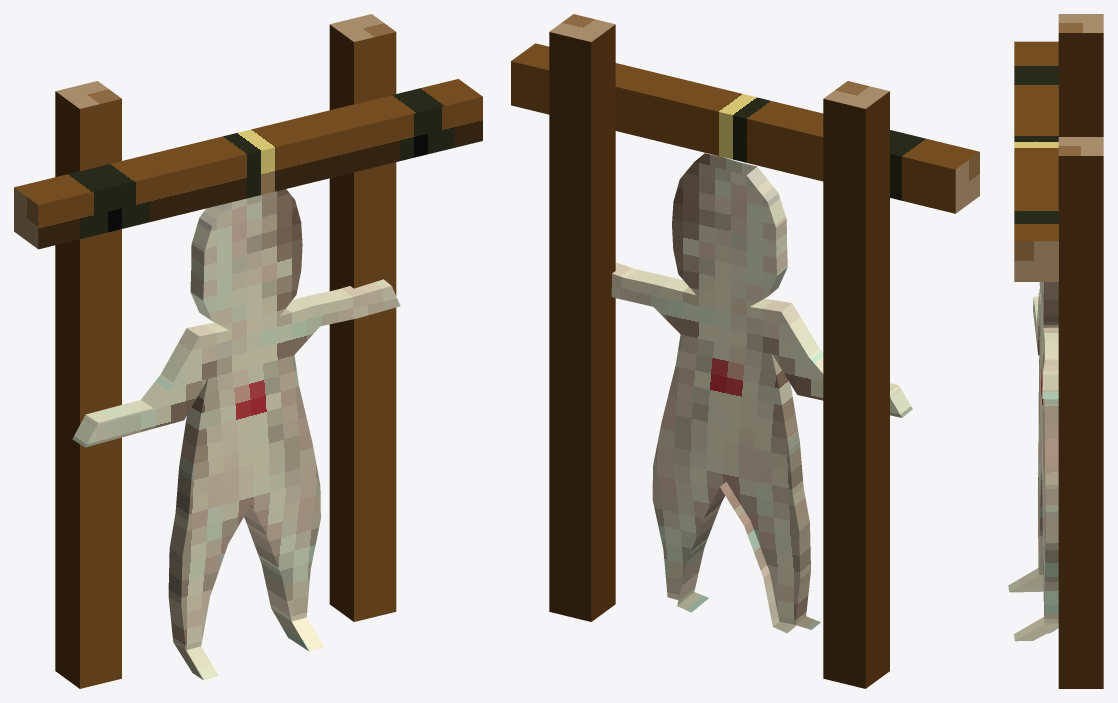
Rendered from fencing_dummy_860.gltf.
3 renders of one model, left to right at view 1: azimuth 30°, elevation 25°; view 2: azimuth 150°, elevation 25°; view 3: azimuth 270°, elevation 25°, orthographic. The views are drawn at different scales.
Parts seen in each view (by area): view 1: fencing_dummy_860.001; view 2: fencing_dummy_860.001; view 3: fencing_dummy_860.001.
Boxes of the visible parts, bbox=[...] form: fencing_dummy_860.001: bbox=[14, 14, 482, 688]; fencing_dummy_860.001: bbox=[511, 14, 979, 688]; fencing_dummy_860.001: bbox=[1008, 14, 1103, 688].
Size of the model in its own units: 3.94 by 4.91 by 0.7959.
Materials: 1 (1 with a texture image).
